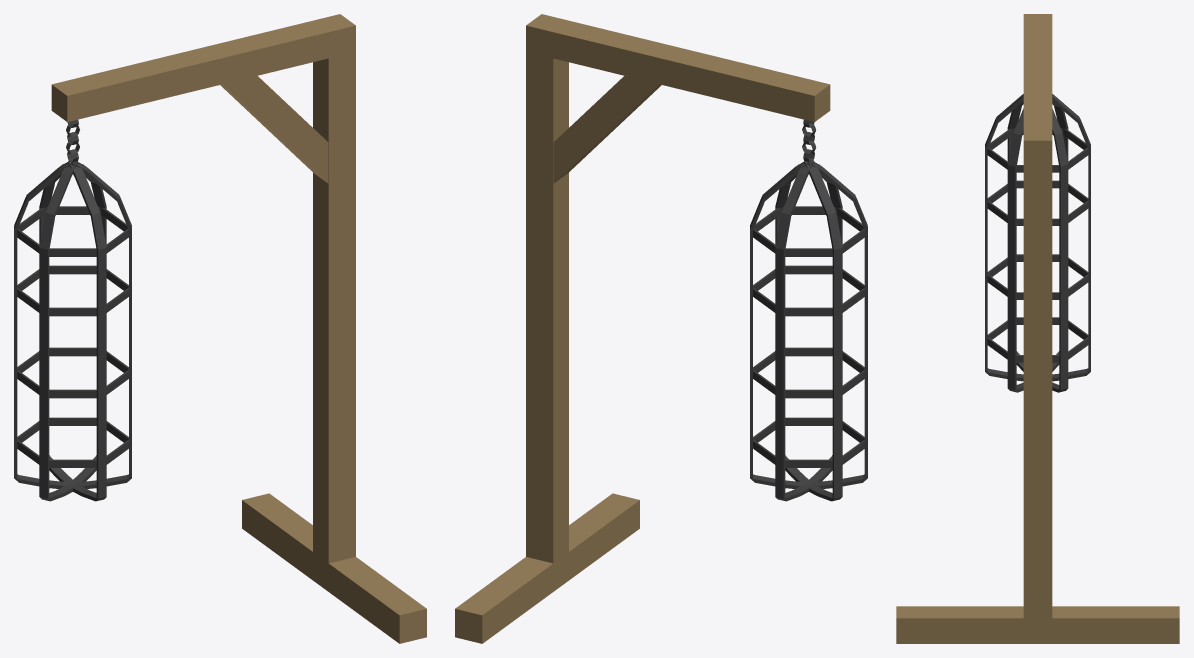
File: Cage base.fbx
3 views of the same model, side by side, from view 1: azimuth 30°, elevation 25°; view 2: azimuth 150°, elevation 25°; view 3: azimuth 270°, elevation 25° (orthographic). The views are drawn at different scales.
Visible parts, largest first — view 1: Cube.210, Cube.207; view 2: Cube.210, Cube.207; view 3: Cube.210, Cube.207.
Part boxes in pixels (box(x1,y1,x2,y2)): Cube.210: box(51, 14, 426, 643); Cube.207: box(14, 119, 131, 501); Cube.210: box(455, 14, 830, 643); Cube.207: box(750, 119, 867, 501); Cube.210: box(896, 14, 1179, 643); Cube.207: box(985, 94, 1090, 392).
Size of the model in its own units: 2.35 by 3.92 by 2.
